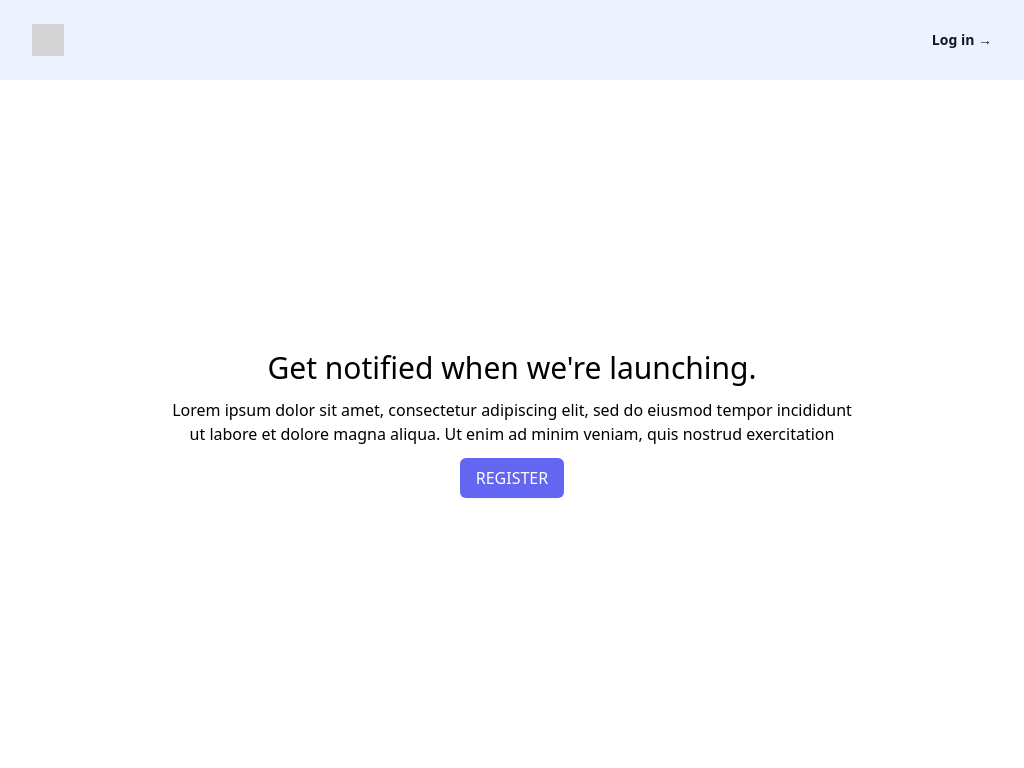
Test case: template spec › takes me to register form as expected
The width and height of the screenshot is (1024, 768).
Click the button "Register": (513, 478) [460,458,565,498]
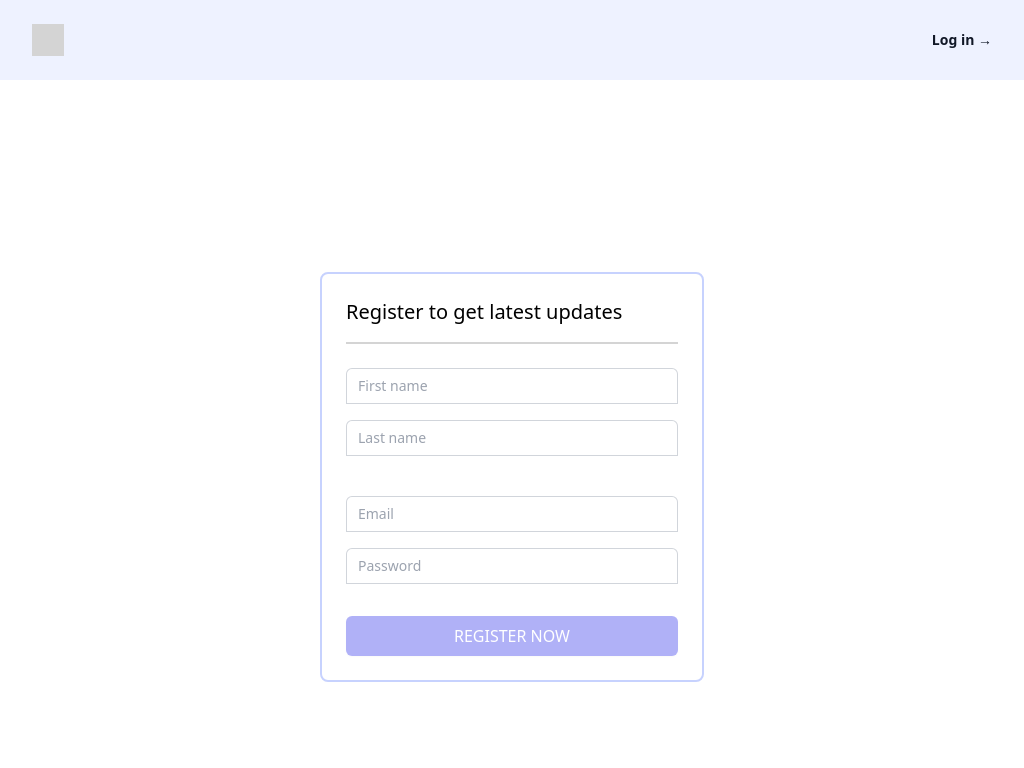
Expected: the heading "Register to get latest updates" is shown, [346,298,622,325]
